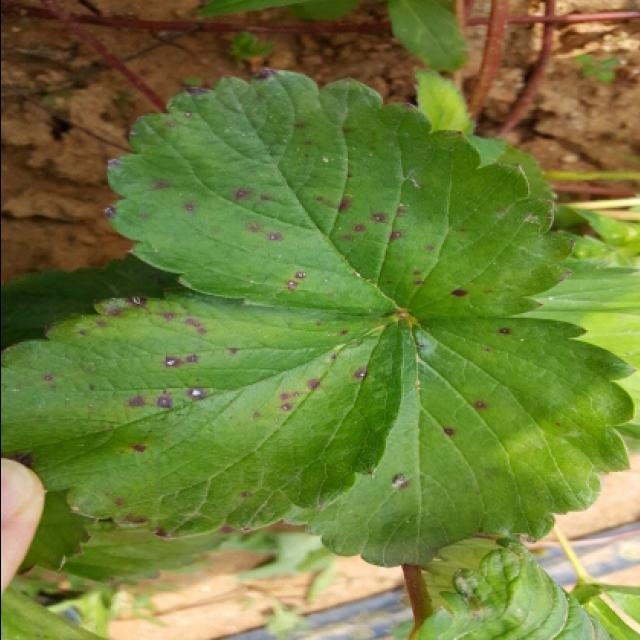Leaf Spot: (104, 67, 578, 319), (2, 286, 402, 539), (284, 316, 636, 568)
